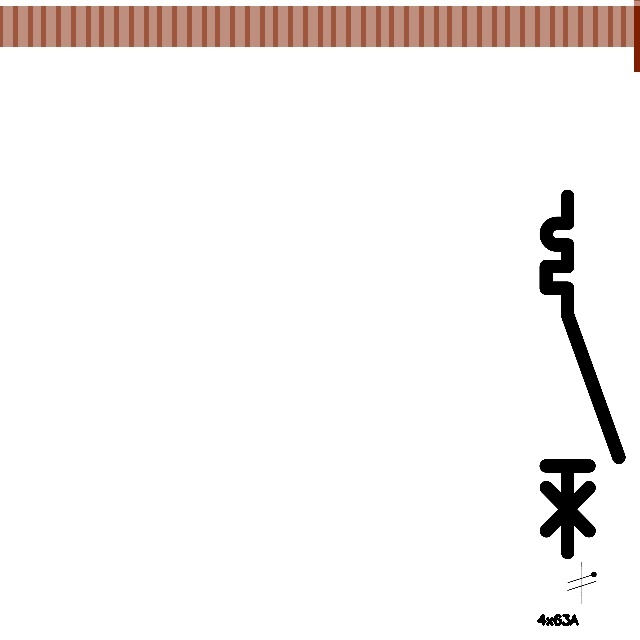interruptor_termomagnetico: (537, 187, 628, 561)
